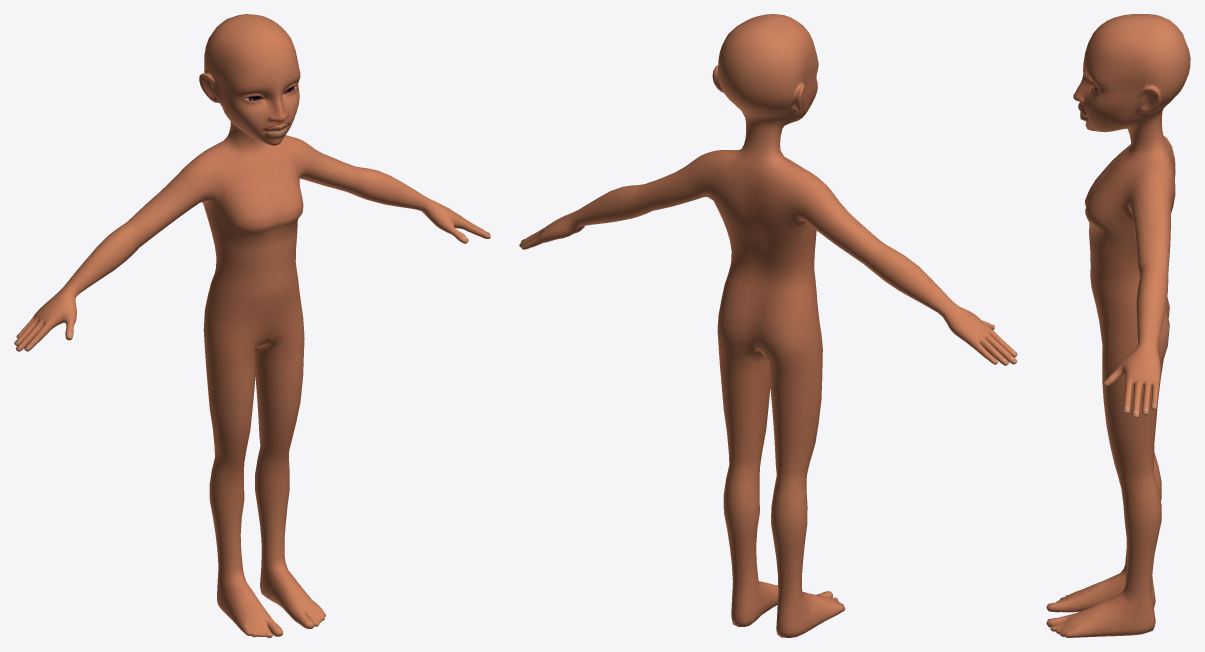
Rendered from frame_0095.glb.
The picture shows the model from 3 angles, left to right: view 1: azimuth 30°, elevation 25°; view 2: azimuth 150°, elevation 25°; view 3: azimuth 270°, elevation 25°; orthographic projection. The views are drawn at different scales.
Parts seen in each view (by area): view 1: frame_0095_head_geo; view 2: frame_0095_head_geo; view 3: frame_0095_head_geo.
Part boxes in pixels (bbox=[...]): frame_0095_head_geo: bbox=[14, 14, 490, 637]; frame_0095_head_geo: bbox=[519, 14, 1017, 637]; frame_0095_head_geo: bbox=[1046, 14, 1190, 637].
Bounding box in the file's own units: 1.28 × 1.5 × 0.3253.
3 materials, 3 textured.
